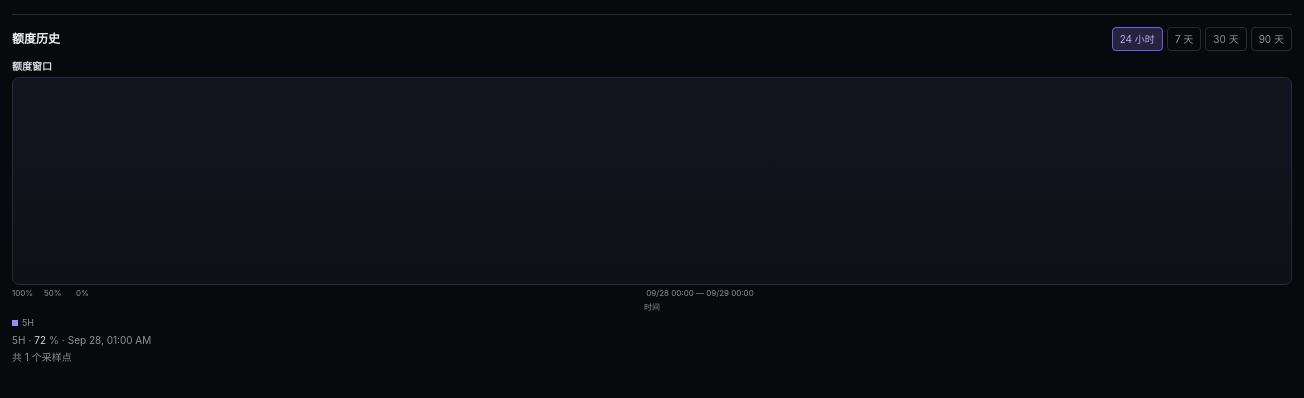
Test case: QuotaHistory › loads the default range, switches ranges, and shows sampled history
This screenshot has width=1304, height=398.
Expected: the text "72" is shown, [34, 333, 46, 348]
What coordinates should you click on to do the following:
click the button "7 天"
I would click on:
 (1184, 39)
Its box is [1167, 27, 1201, 51].
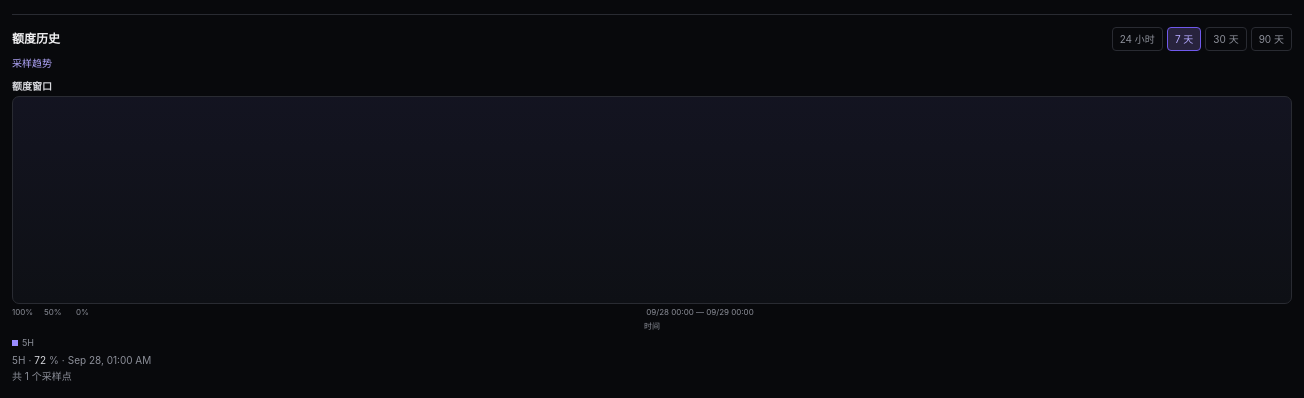
Expected: the text "采样趋势" is shown, [12, 57, 52, 69]
